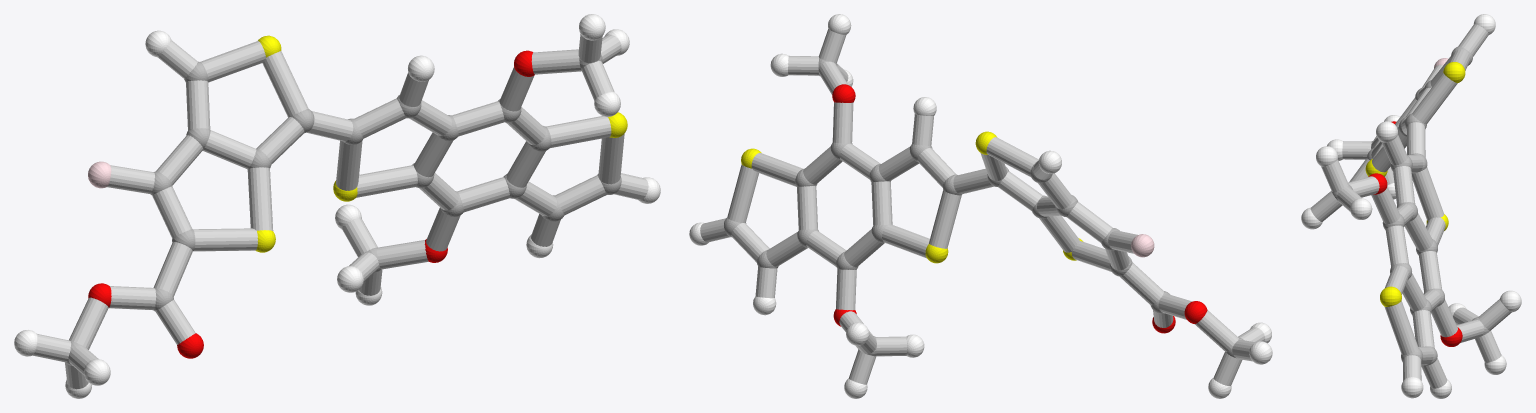
The model's file is Dimethoxy_Benzodithiophene_Phi_25_Theta_50_Methylcarbonyl_3_Fluoro_Thienothiophene.glb.
3 renders of one model, left to right at view 1: azimuth 30°, elevation 25°; view 2: azimuth 150°, elevation 25°; view 3: azimuth 270°, elevation 25°, orthographic. The views are drawn at different scales.
Parts seen in each view (by area): view 1: grp15205, grp8689, grp1, grp13395, grp7241; view 2: grp15205, grp8689, grp1, grp13395, grp7241; view 3: grp15205, grp8689, grp1, grp7241, grp13395.
Part boxes in pixels (x1,y1,x2,y2): grp15205: [33, 34, 648, 389]; grp8689: [14, 14, 660, 398]; grp1: [66, 54, 621, 365]; grp13395: [88, 50, 534, 358]; grp7241: [255, 35, 627, 252]; grp15205: [700, 29, 1264, 385]; grp8689: [689, 14, 1272, 398]; grp1: [724, 58, 1243, 357]; grp13395: [832, 84, 1207, 333]; grp7241: [741, 131, 1083, 263]; grp15205: [1310, 24, 1511, 388]; grp8689: [1301, 14, 1521, 398]; grp1: [1332, 46, 1489, 365]; grp7241: [1365, 62, 1465, 306]; grp13395: [1368, 121, 1462, 346].
Size of the model in its own units: 16.86 by 8.24 by 5.97.
